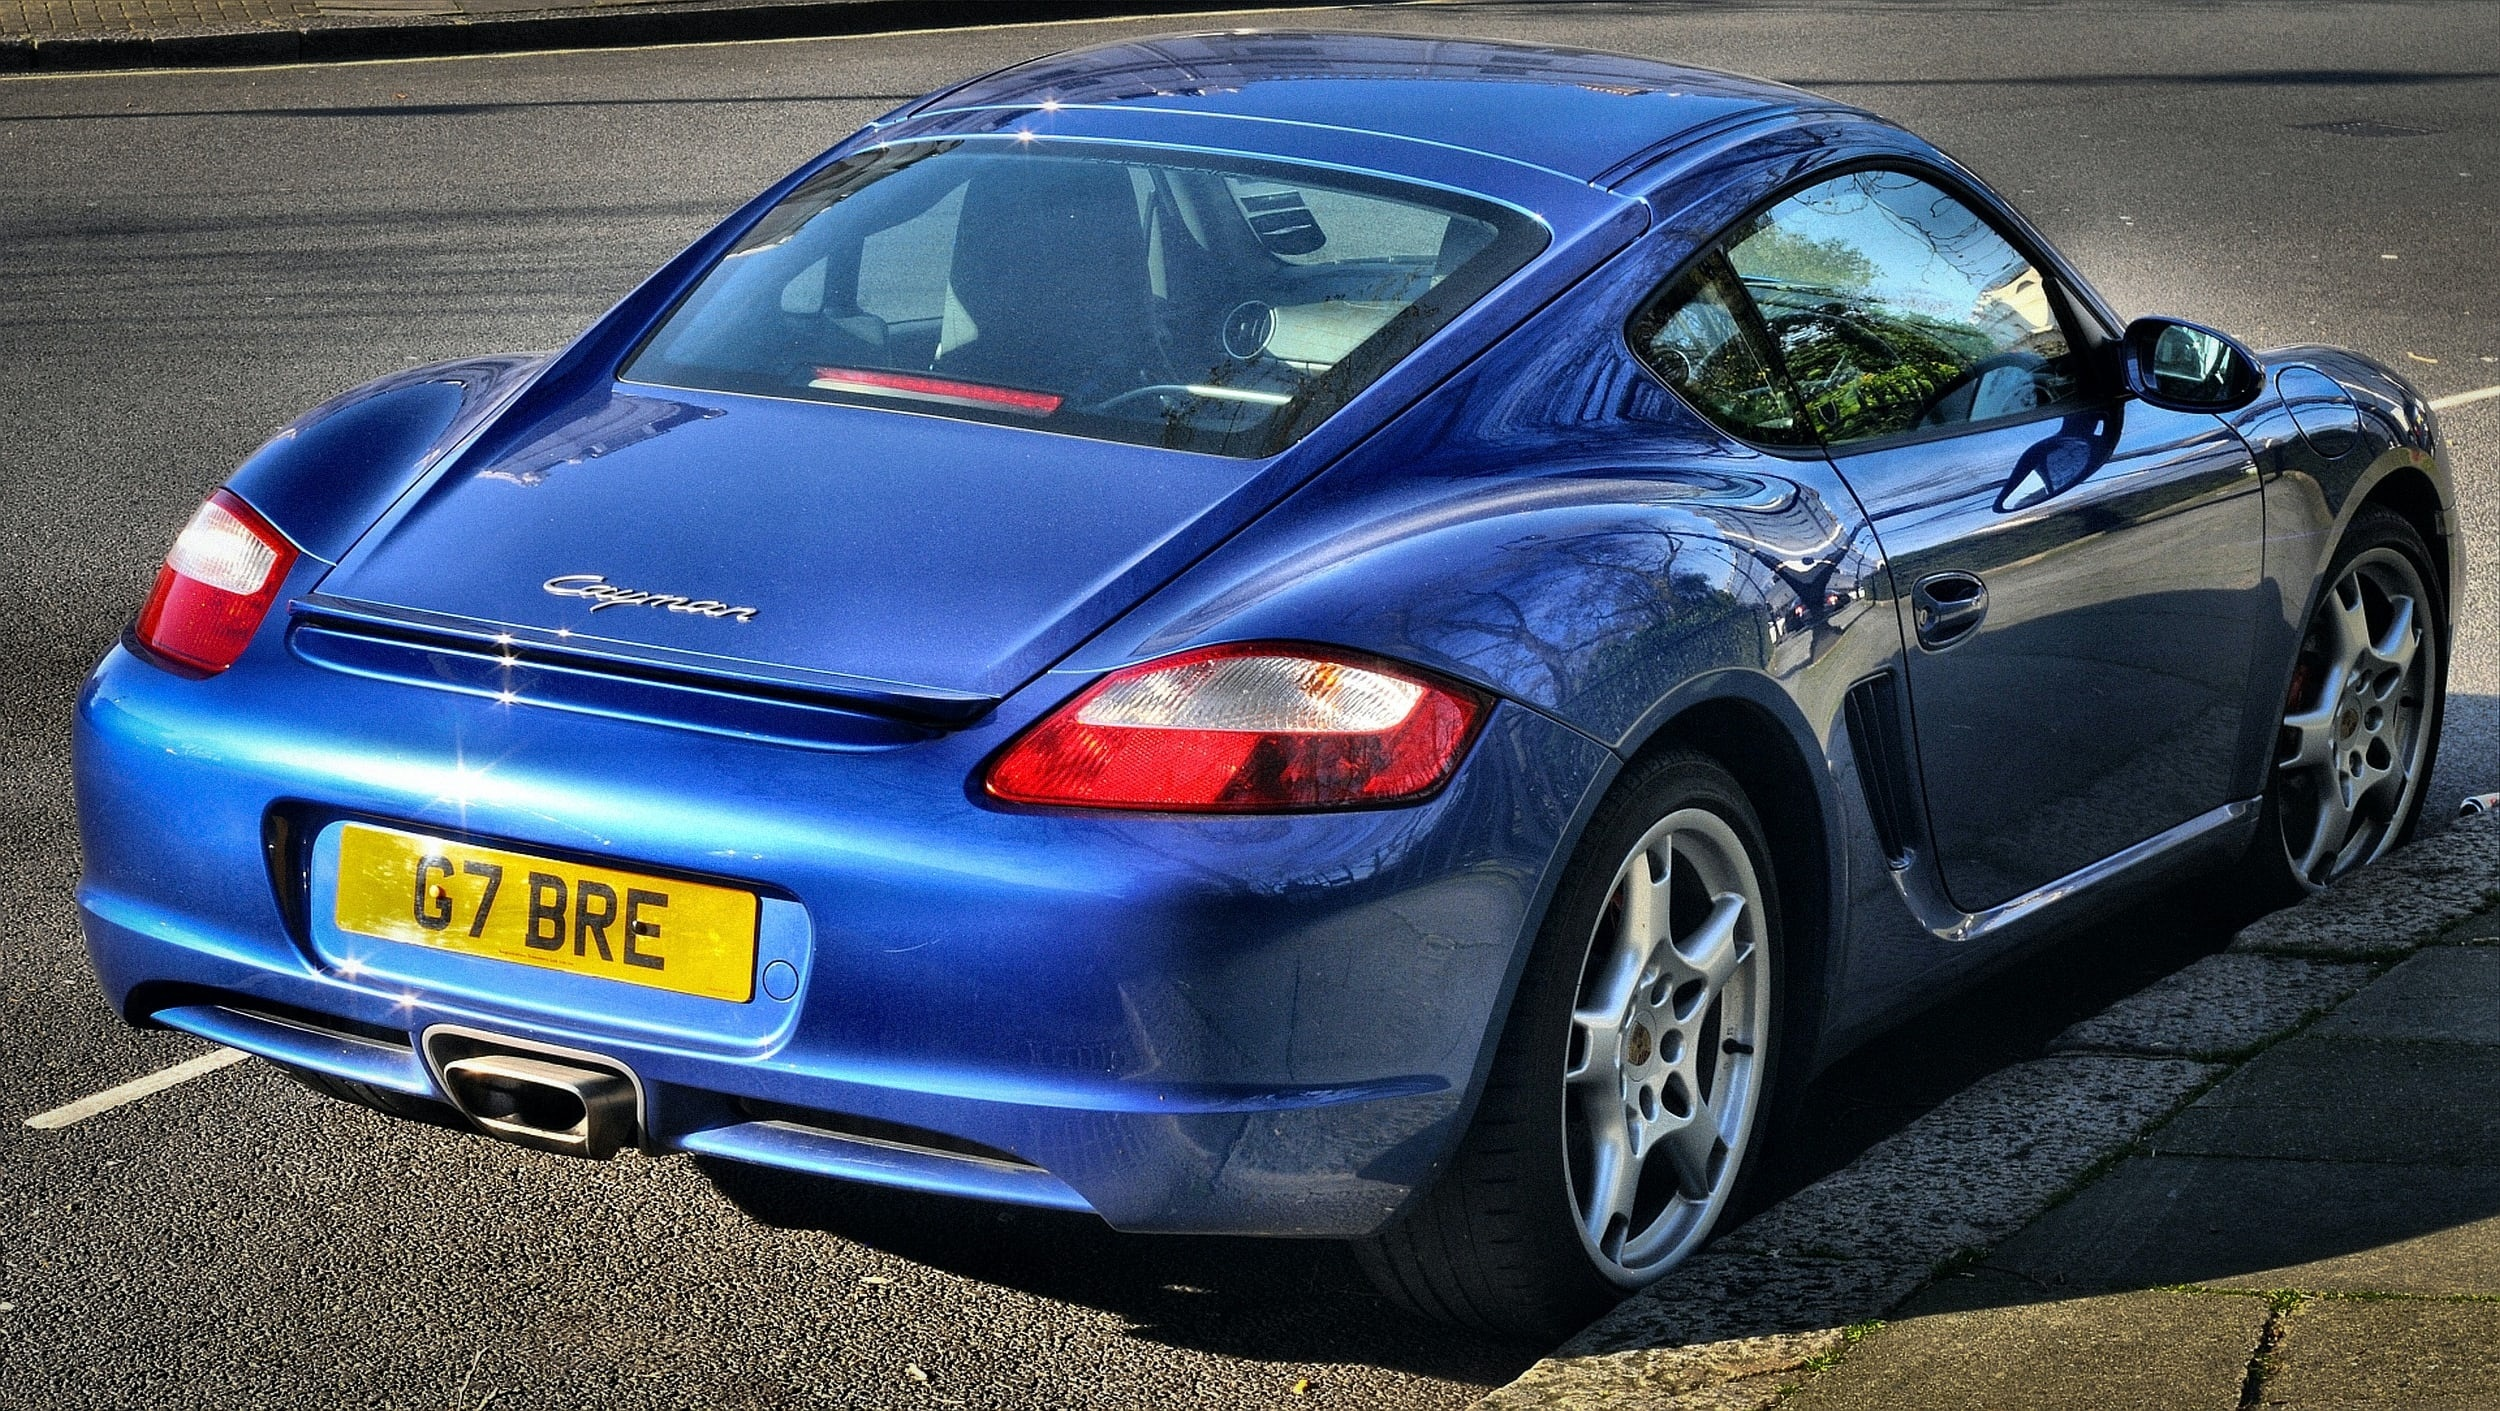plaka: (325, 818, 759, 1002)
